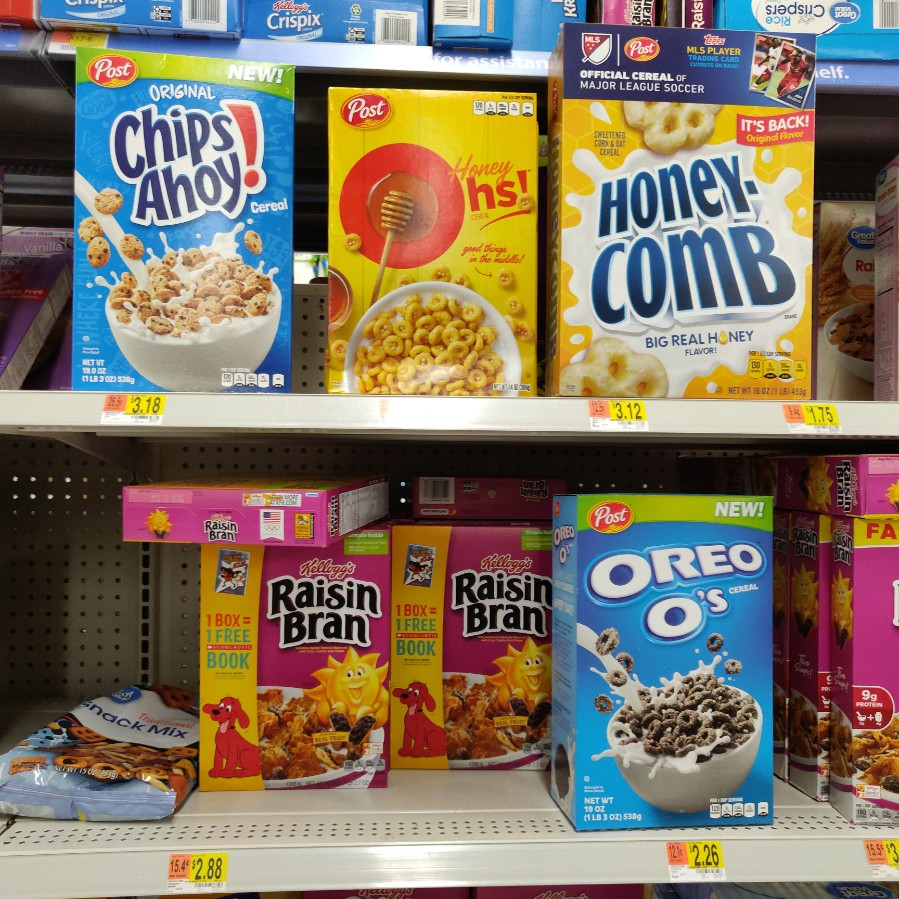Chips Ahoys-565717529: (68, 39, 293, 396)
Honey Comb- 009288857: (561, 19, 812, 400)
Oreo-563424384: (579, 494, 779, 830)
